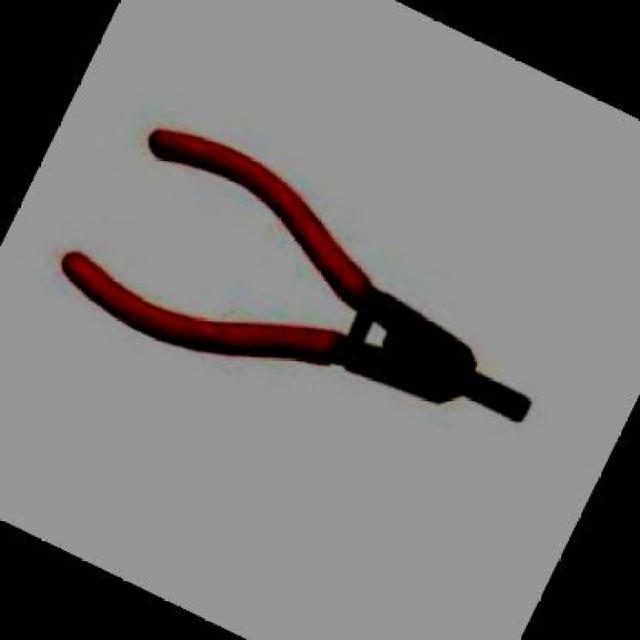pliers: (31, 91, 611, 548)
